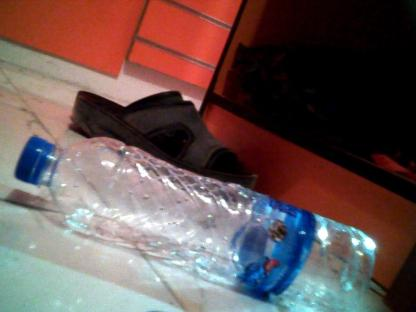Plastic Bottle: (15, 128, 379, 312)
